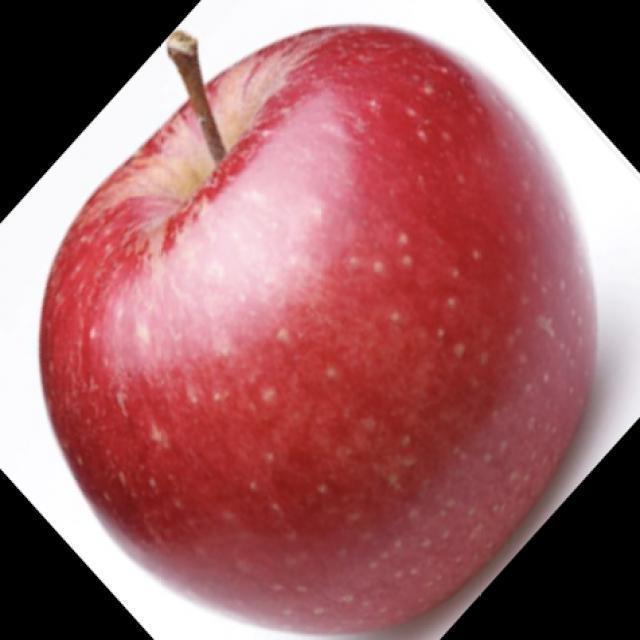Fresh Apple: (38, 44, 602, 628)
